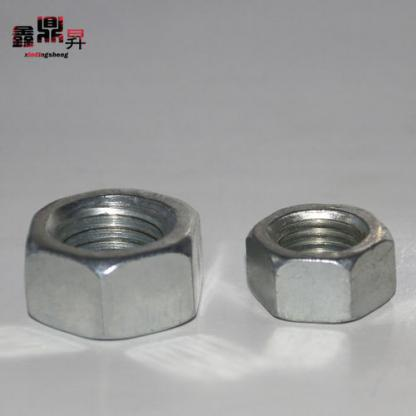FOD: (20, 188, 205, 344), (242, 198, 396, 325)
